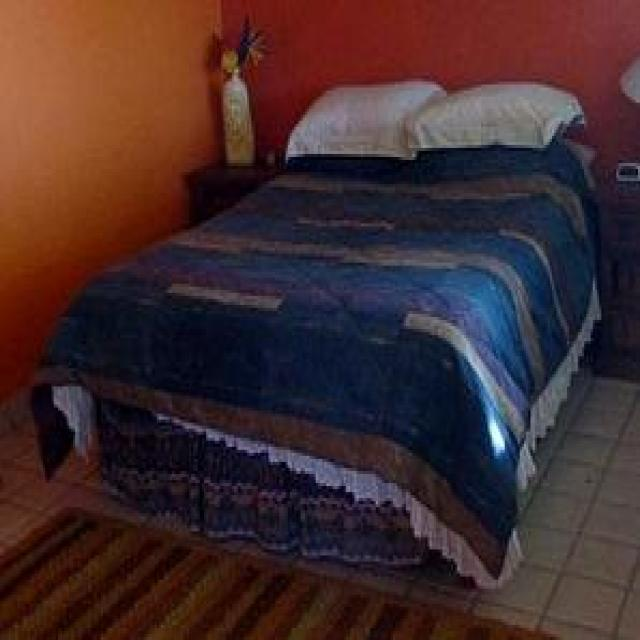bed: (32, 84, 601, 589)
